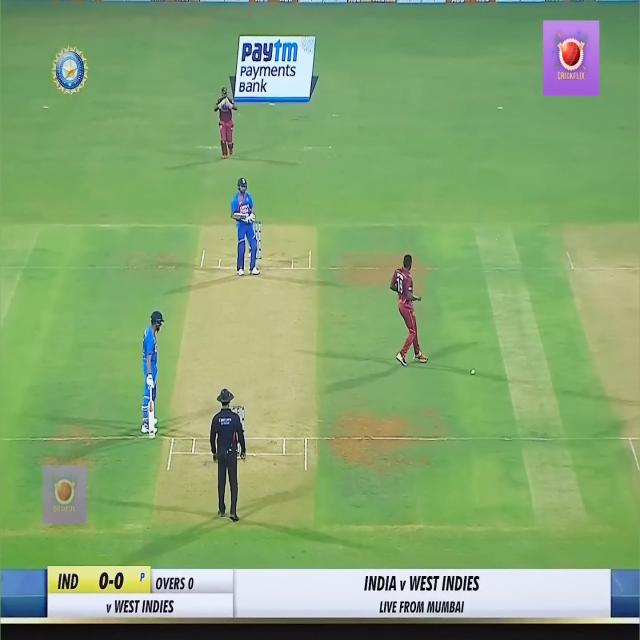fully_visible: (235, 33, 308, 66)
